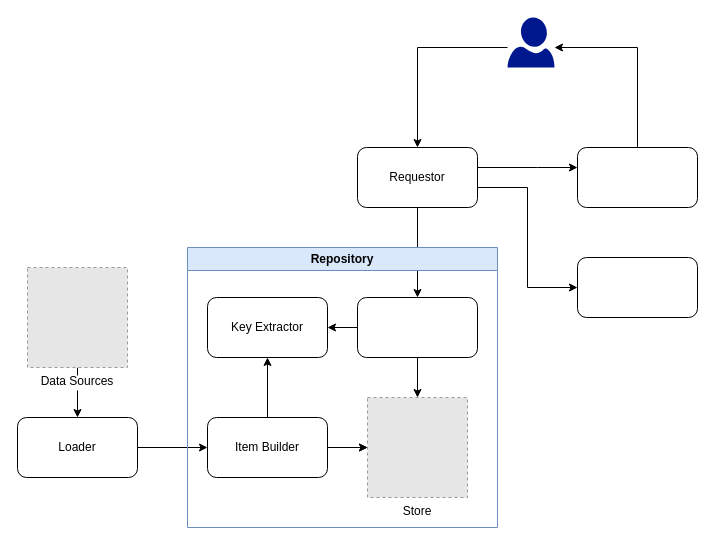
This 715x545 diagram has some shape labels left out. Grey dashed boxes stand in for pictures. Here are the shapes that lost their labels. From the top down, the centre of each, then its label:
point 530,42: User
point 637,177: Responder
point 637,287: Generator
point 417,327: Retriever
